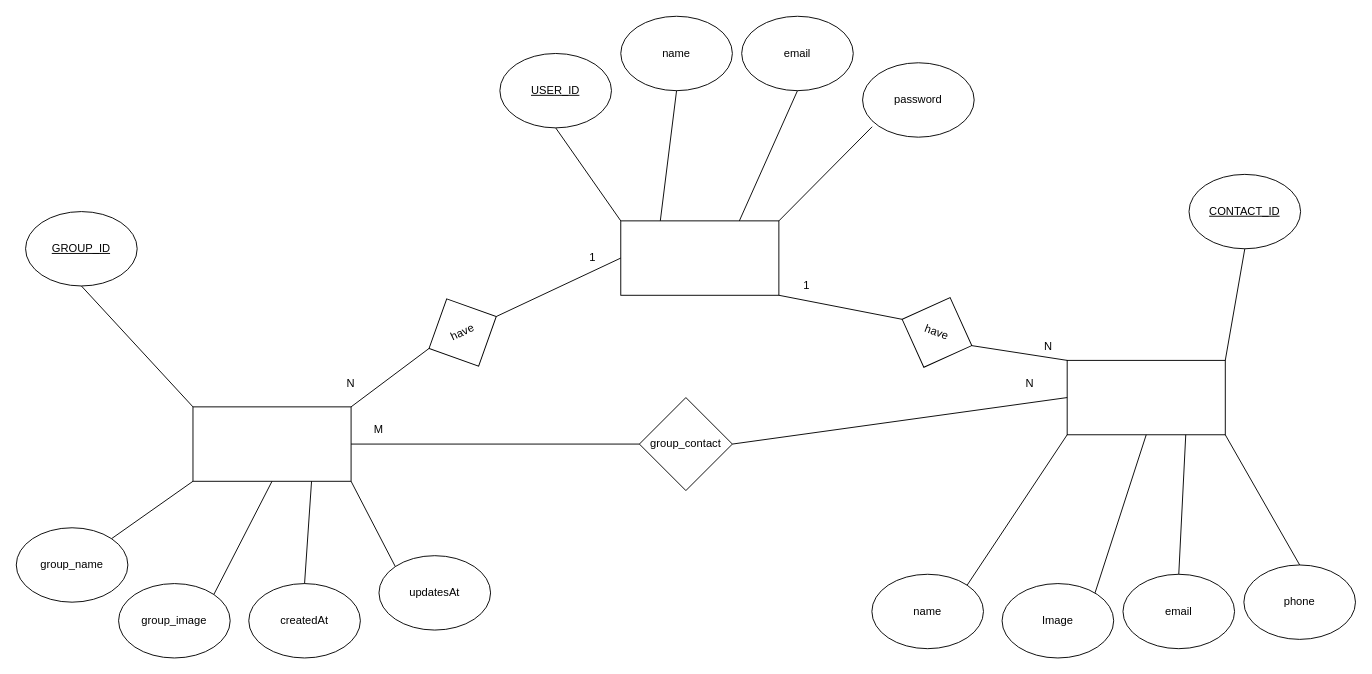
This 1372x674 diagram has some shape labels left out. The shapes that lost their labels are listed below. From the top down, each one's centre as x and y in pixels, then its label:
At (x=699, y=257): "USERS".
At (x=1145, y=397): "CONTACTS".
At (x=271, y=443): "GROUPS".
